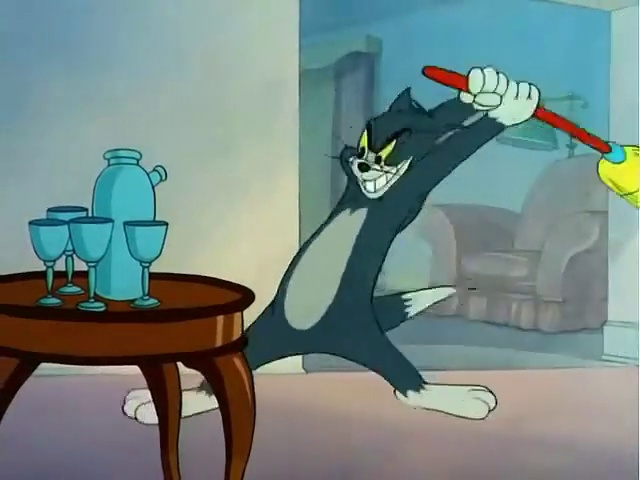tom: (178, 44, 547, 409)
